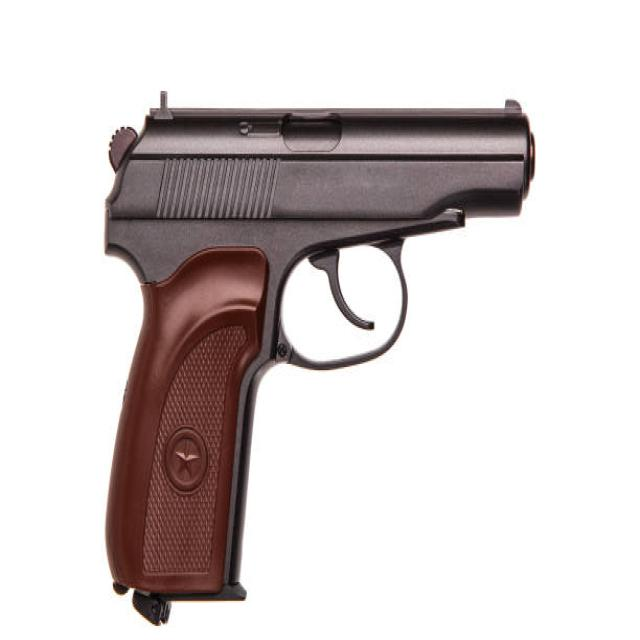pistol: (96, 80, 548, 627)
